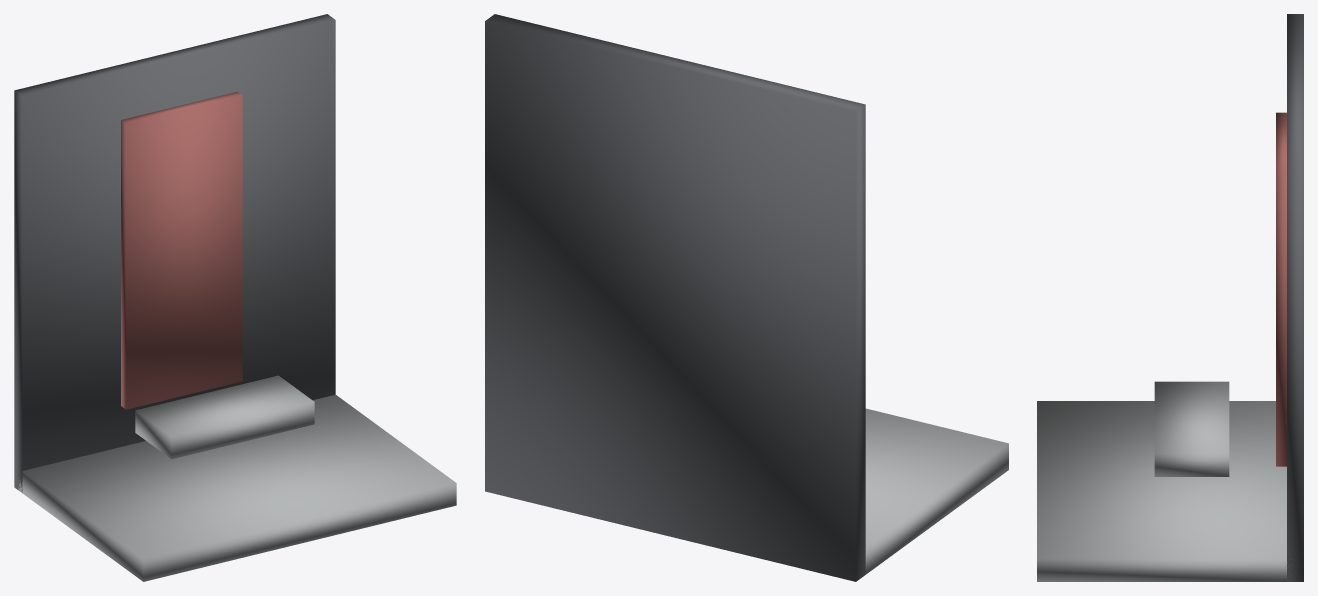
File: roof_access_hatch_stair_12.glb
3 renders of one model, left to right at view 1: azimuth 30°, elevation 25°; view 2: azimuth 150°, elevation 25°; view 3: azimuth 270°, elevation 25°, orthographic. The views are drawn at different scales.
Visible parts, largest first — view 1: world; view 2: world; view 3: world.
Boxes of the visible parts, x1,y1,x2,y2 form: world: [14, 14, 456, 581]; world: [485, 14, 1008, 581]; world: [1037, 14, 1303, 581].
Size of the model in its own units: 1.75 by 2.12 by 1.25.
